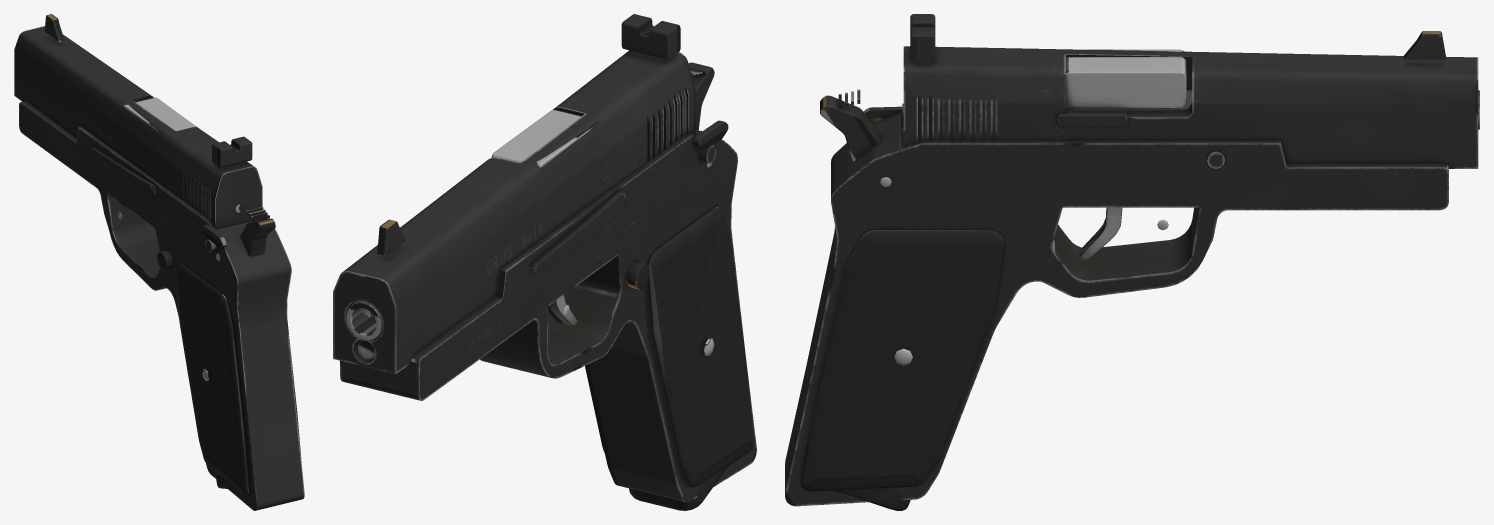
The picture shows the model from 3 angles, left to right: view 1: azimuth 30°, elevation 25°; view 2: azimuth 150°, elevation 25°; view 3: azimuth 270°, elevation 25°; orthographic projection. The views are drawn at different scales.
Visible parts, largest first — view 1: body, charging; view 2: body, charging, magbody, magcatch; view 3: body, charging, magbody.
Part boxes in pixels (x1,y1,x2,y2): body: (19, 97, 304, 510); charging: (14, 14, 262, 229); body: (340, 62, 756, 502); charging: (333, 14, 695, 374); magbody: (629, 466, 727, 510); magcatch: (626, 261, 649, 289); body: (785, 49, 1479, 506); charging: (902, 14, 1478, 168); magbody: (836, 488, 910, 510).
Size of the model in its own units: 0.0382 by 0.1774 by 0.2357.
1 material, 1 textured.
